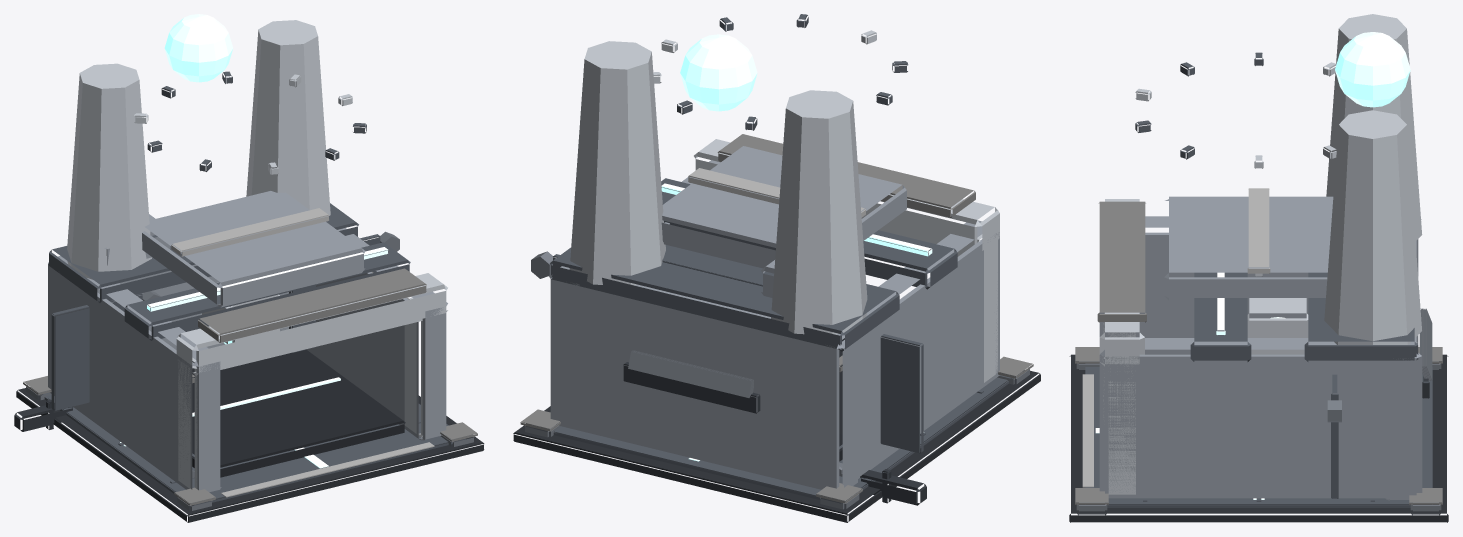
Rendered from advbotlab.glb.
3 renders of one model, left to right at view 1: azimuth 30°, elevation 25°; view 2: azimuth 150°, elevation 25°; view 3: azimuth 270°, elevation 25°, orthographic. The views are drawn at different scales.
Visible parts, largest first — view 1: body; view 2: body; view 3: body.
Part boxes in pixels (box(x1,y1,x2,y2)): body: box(14, 14, 484, 522); body: box(513, 14, 1040, 522); body: box(1069, 14, 1448, 522).
Bounding box in the file's own units: 136 × 135 × 112.
